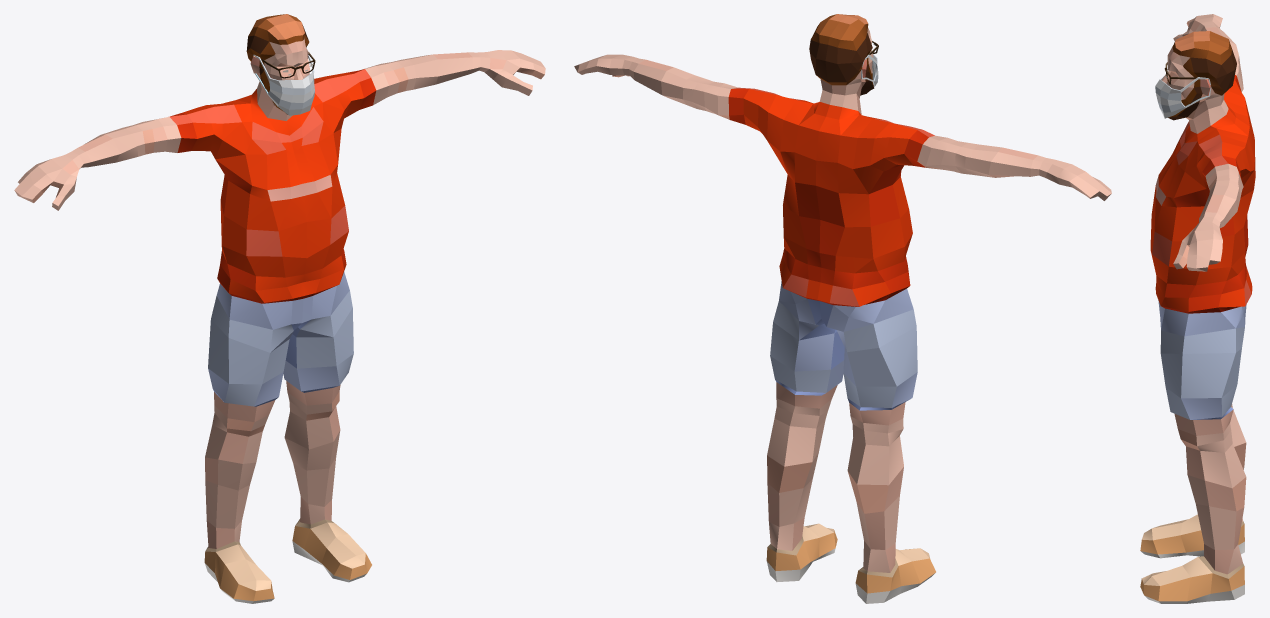
The model's file is casual_Male_K-model.obj.
The picture shows the model from 3 angles, left to right: view 1: azimuth 30°, elevation 25°; view 2: azimuth 150°, elevation 25°; view 3: azimuth 270°, elevation 25°; orthographic projection. The views are drawn at different scales.
Parts seen in each view (by area): view 1: casual_Male_K, acc_mask_white; view 2: casual_Male_K; view 3: casual_Male_K, acc_mask_white.
Boxes of the visible parts, x1=… form: casual_Male_K: x1=14, y1=14, x2=545, y2=603; acc_mask_white: x1=253, y1=47, x2=314, y2=115; casual_Male_K: x1=574, y1=14, x2=1111, y2=603; casual_Male_K: x1=1140, y1=14, x2=1255, y2=603; acc_mask_white: x1=1155, y1=76, x2=1211, y2=118.
Size of the model in its own units: 168 by 168 by 32.68.
